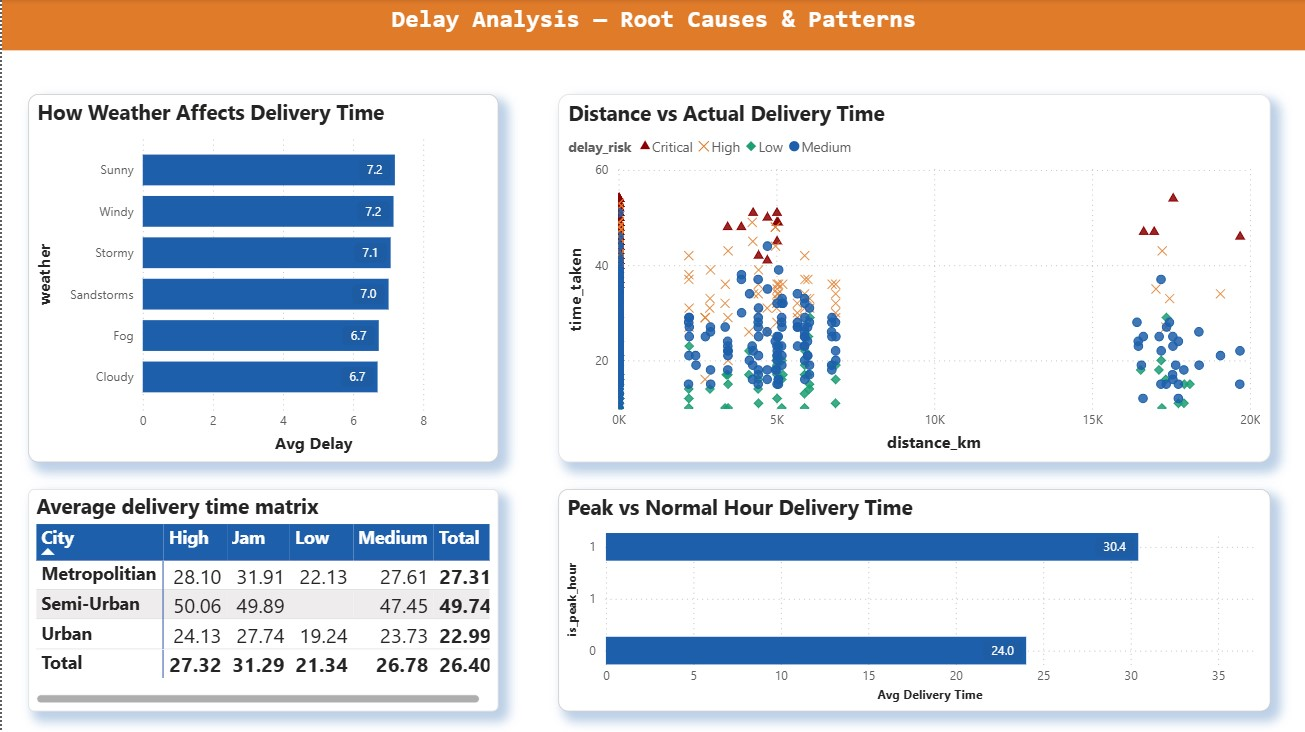

The page's visual inventory and layout, read from the dashboard file:
{"tool":"powerbi","page":{"name":"Delay Analysis","canvas":[1280,720],"ordinal":1},"visuals":[{"type":"clusteredBarChart","title":"How Weather Affects Delivery Time","fields":{"Category":["Orders.weather"],"Y":["FeatureImportance.Avg Delay"]},"box":[25.8,93.3,461.4,362],"z":0},{"type":"scatterChart","title":"Distance vs Actual Delivery Time","fields":{"X":["Orders.distance_km"],"Y":["Orders.time_taken"],"Series":["Orders.delay_risk"]},"box":[546,93.3,699.4,362],"z":1000},{"type":"pivotTable","title":"Average delivery time matrix","fields":{"Rows":["Orders.City"],"Columns":["Orders.Road_traffic_density"],"Values":["Orders.Avg Delivery Time"]},"box":[25.8,481,461.4,218.4],"z":2000},{"type":"barChart","title":"Peak vs Normal Hour Delivery Time","fields":{"Category":["Orders.is_peak_hour"],"Y":["Orders.Avg Delivery Time"]},"box":[546,481,699.4,218.4],"z":3000},{"type":"textbox","box":[0,0,1280,50],"z":4000}]}

Visuals, with their boxes in screenshot pixels (x1, y1, x2, y2), scaled from the page's 1280x720 canvas onto the 1305x732 screenshot:
"How Weather Affects Delivery Time" clusteredBarChart: {"x1": 26, "y1": 95, "x2": 497, "y2": 463}
"Distance vs Actual Delivery Time" scatterChart: {"x1": 557, "y1": 95, "x2": 1270, "y2": 463}
"Average delivery time matrix" pivotTable: {"x1": 26, "y1": 489, "x2": 497, "y2": 711}
"Peak vs Normal Hour Delivery Time" barChart: {"x1": 557, "y1": 489, "x2": 1270, "y2": 711}
textbox: {"x1": 0, "y1": 0, "x2": 1304, "y2": 51}
